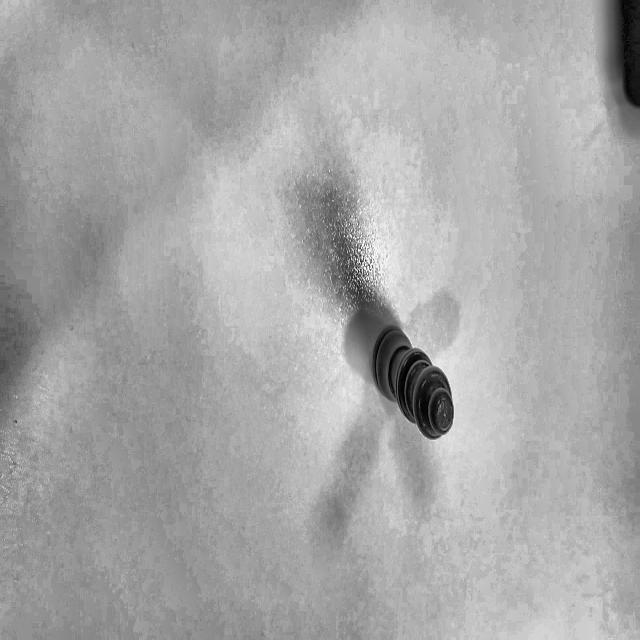black-queen: (363, 291, 462, 466)
